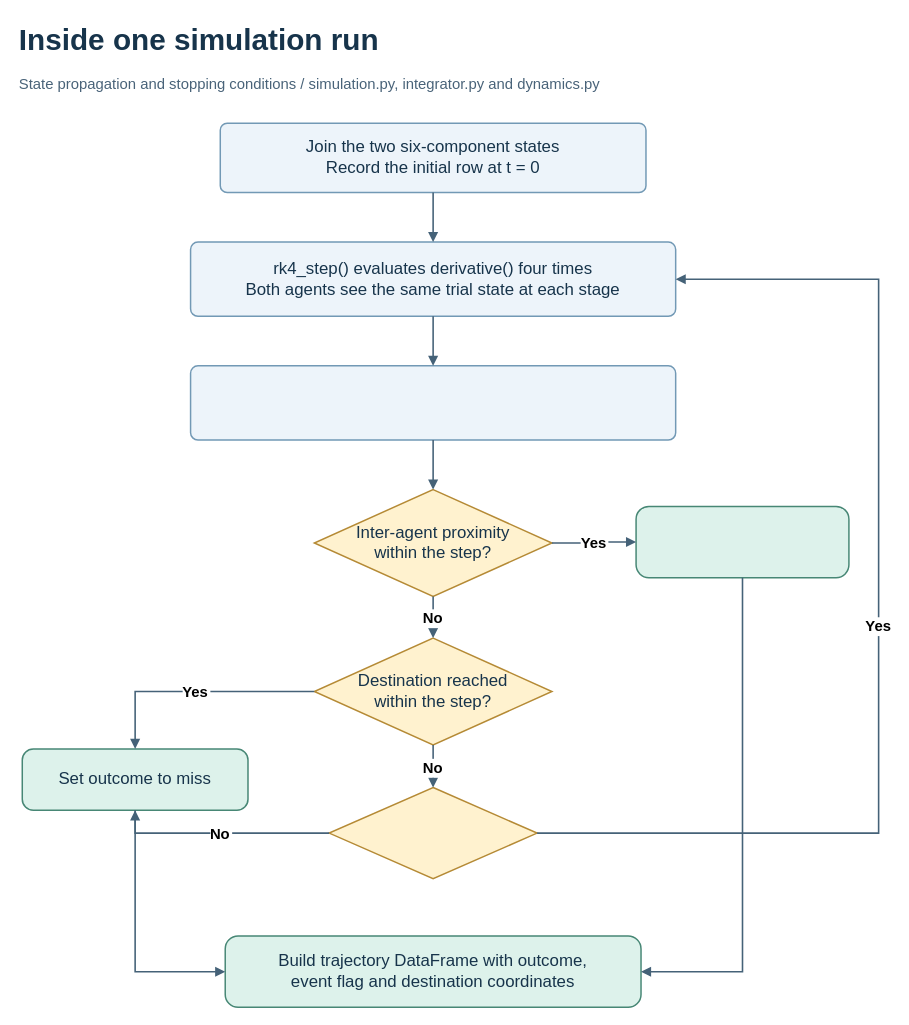
Image size: 909x1025. Some labels were removed from this diagram. The box of each missing label's shape, as (x1, y1, x2, y2) in pixels:
Set outcome to hit Flag the final row: (635, 505, 849, 578)
Steps left?: (328, 786, 537, 879)
Update both agent objects Append the completed step at t = (step + 1) × dt: (189, 365, 676, 440)
